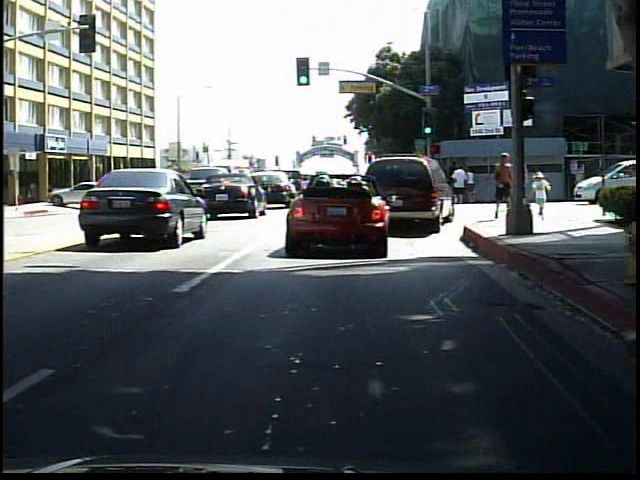person: (488, 150, 512, 221), (529, 172, 552, 222), (120, 173, 139, 204)
